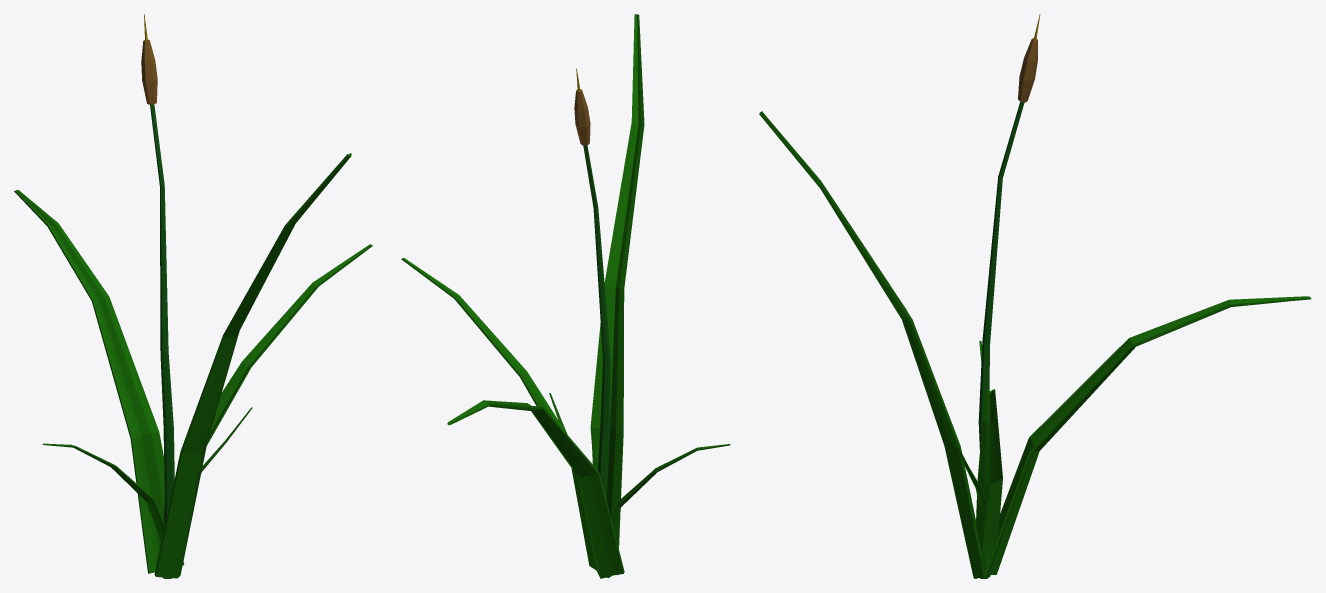
File: RecolectableGrassModel.fbx
3 views of the same model, side by side, from view 1: azimuth 30°, elevation 25°; view 2: azimuth 150°, elevation 25°; view 3: azimuth 270°, elevation 25° (orthographic). The views are drawn at different scales.
Parts seen in each view (by area): view 1: Reeds; view 2: Reeds; view 3: Reeds.
Part boxes in pixels (x1,y1,x2,y2): Reeds: (14,14,372,578); Reeds: (401,14,730,578); Reeds: (759,14,1311,578).
Size of the model in its own units: 120 by 186 by 165.
